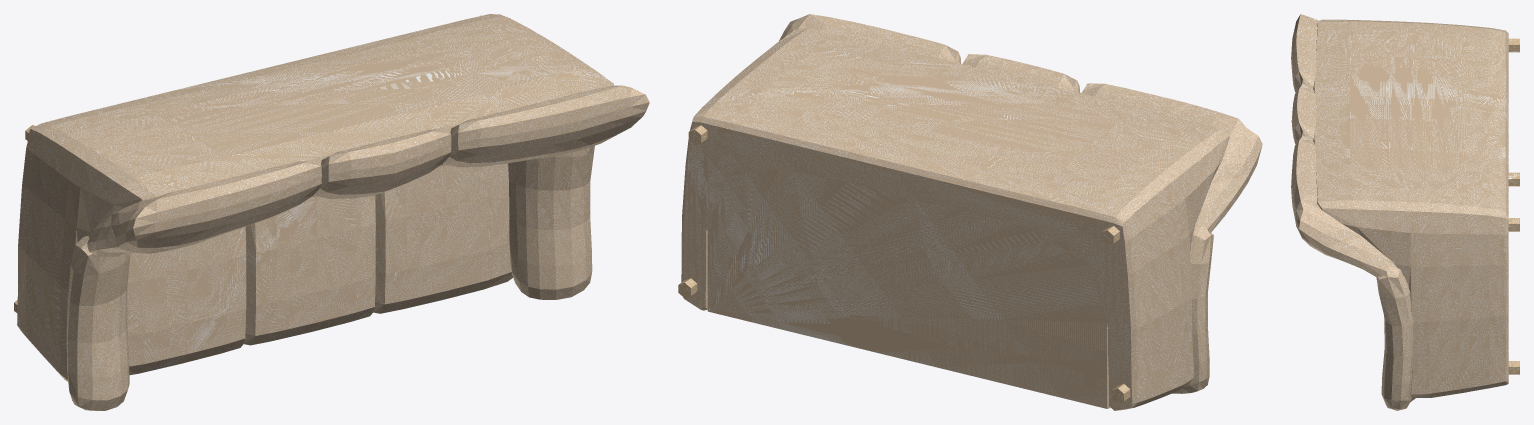
3 views of the same model, side by side, from view 1: azimuth 30°, elevation 25°; view 2: azimuth 150°, elevation 25°; view 3: azimuth 270°, elevation 25° (orthographic). The views are drawn at different scales.
Parts seen in each view (by area): view 1: sofa; view 2: sofa; view 3: sofa.
Boxes of the visible parts, <box> form: sofa: <box>14,14,649,410</box>; sofa: <box>678,14,1262,410</box>; sofa: <box>1291,14,1519,410</box>.
Bounding box in the file's own units: 78.14 × 36.77 × 36.3.
